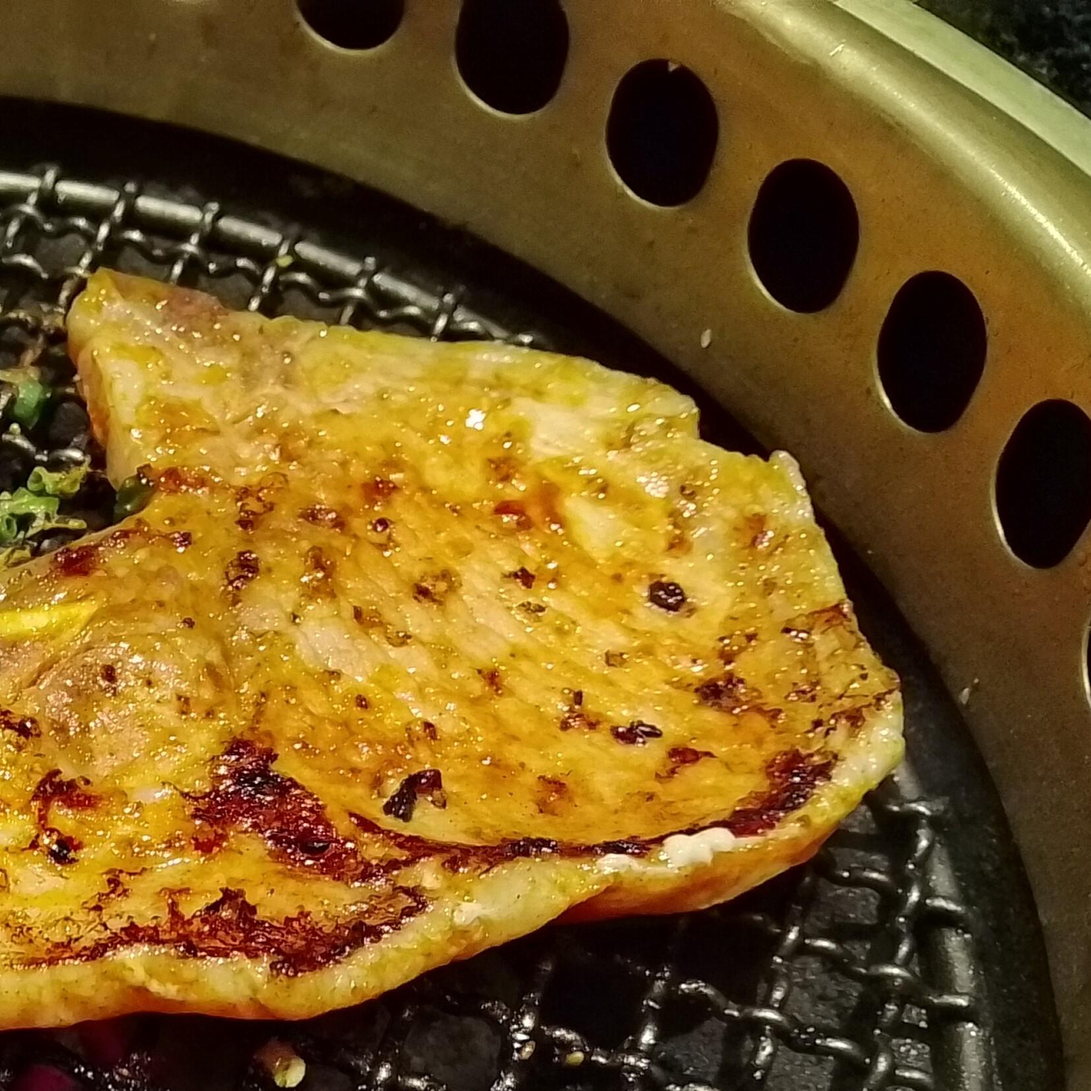Well-Cooked: (0, 271, 895, 1026)
